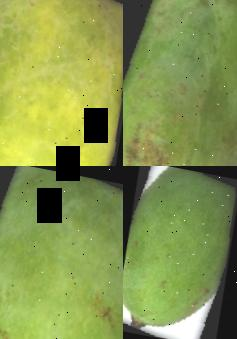PartiallyRipe: (0, 0, 123, 166)
Unripe: (0, 166, 123, 339), (123, 166, 237, 339), (123, 0, 237, 166)
